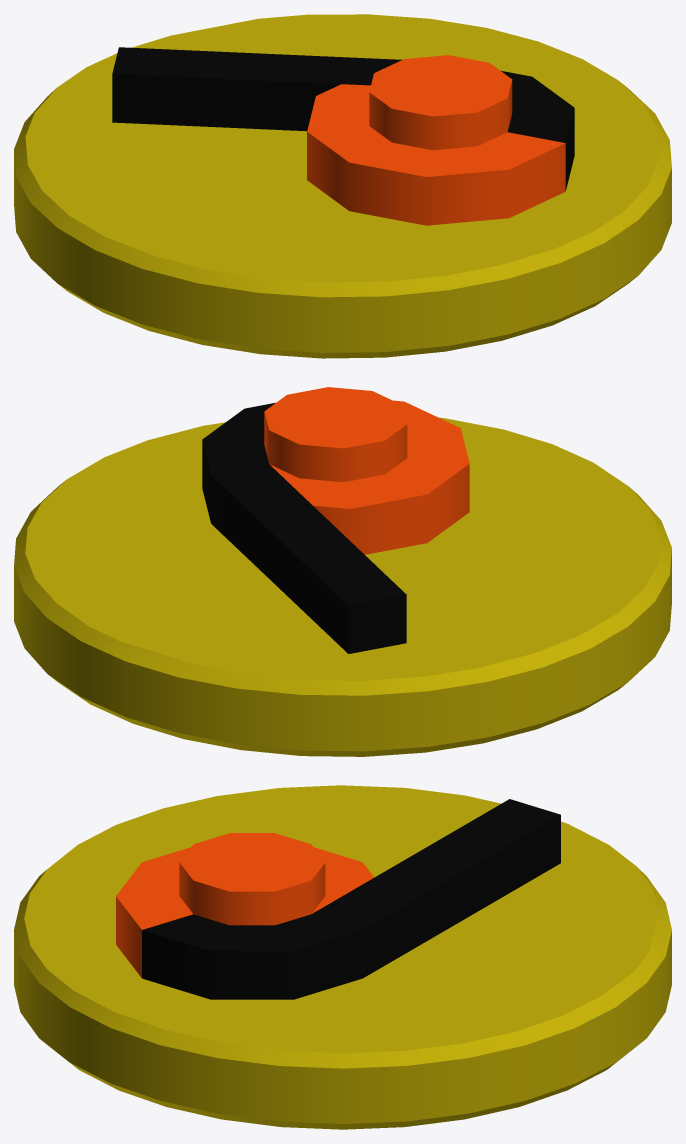
Rendered from blowa_powerup.fbx.
3 views of the same model, one above another, from view 1: azimuth 30°, elevation 25°; view 2: azimuth 150°, elevation 25°; view 3: azimuth 270°, elevation 25° (orthographic).
Parts seen in each view (by area): view 1: Cube; view 2: Cube; view 3: Cube.
Boxes of the visible parts, x1,y1,x2,y2 form: Cube: [14, 14, 671, 358]; Cube: [14, 387, 671, 756]; Cube: [14, 785, 671, 1129].
Size of the model in its own units: 96.46 by 25.66 by 96.46.
